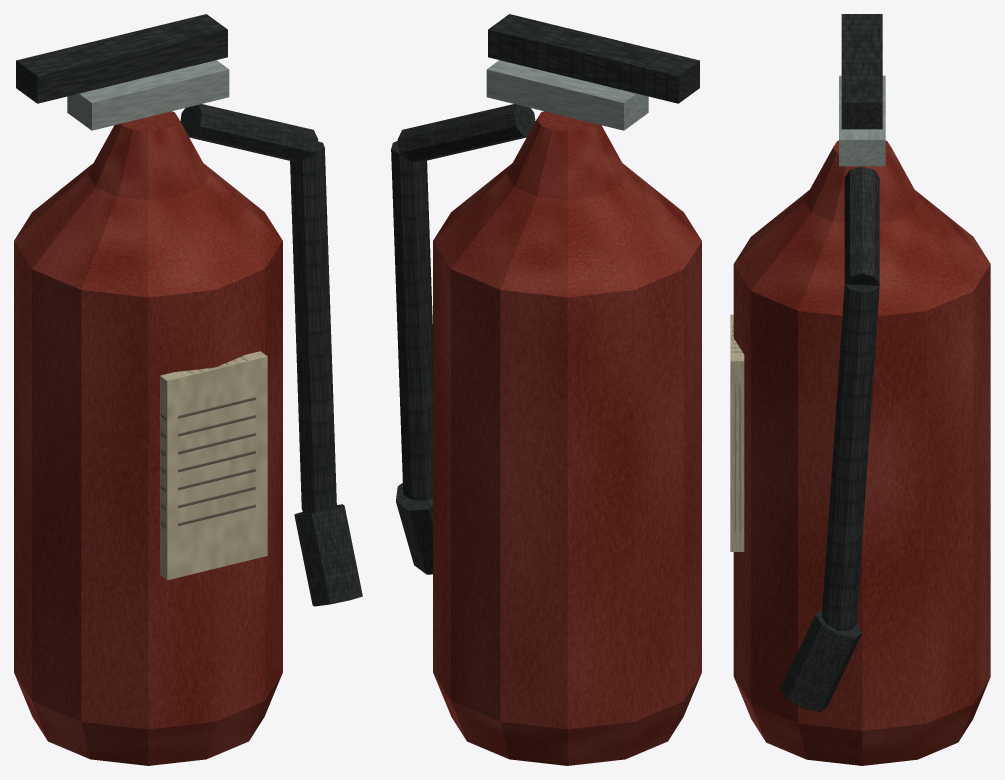
The model's file is FireExtinguisher.glb.
3 views of the same model, side by side, from view 1: azimuth 30°, elevation 25°; view 2: azimuth 150°, elevation 25°; view 3: azimuth 270°, elevation 25° (orthographic). The views are drawn at different scales.
Visible parts, largest first — view 1: FireExtinguisher; view 2: FireExtinguisher; view 3: FireExtinguisher.
Boxes of the visible parts, x1,y1,x2,y2 form: FireExtinguisher: (14, 14, 362, 765); FireExtinguisher: (391, 14, 701, 765); FireExtinguisher: (730, 14, 990, 765).
Size of the model in its own units: 0.287 by 0.6125 by 0.223.
Materials: 4 (4 with a texture image).
